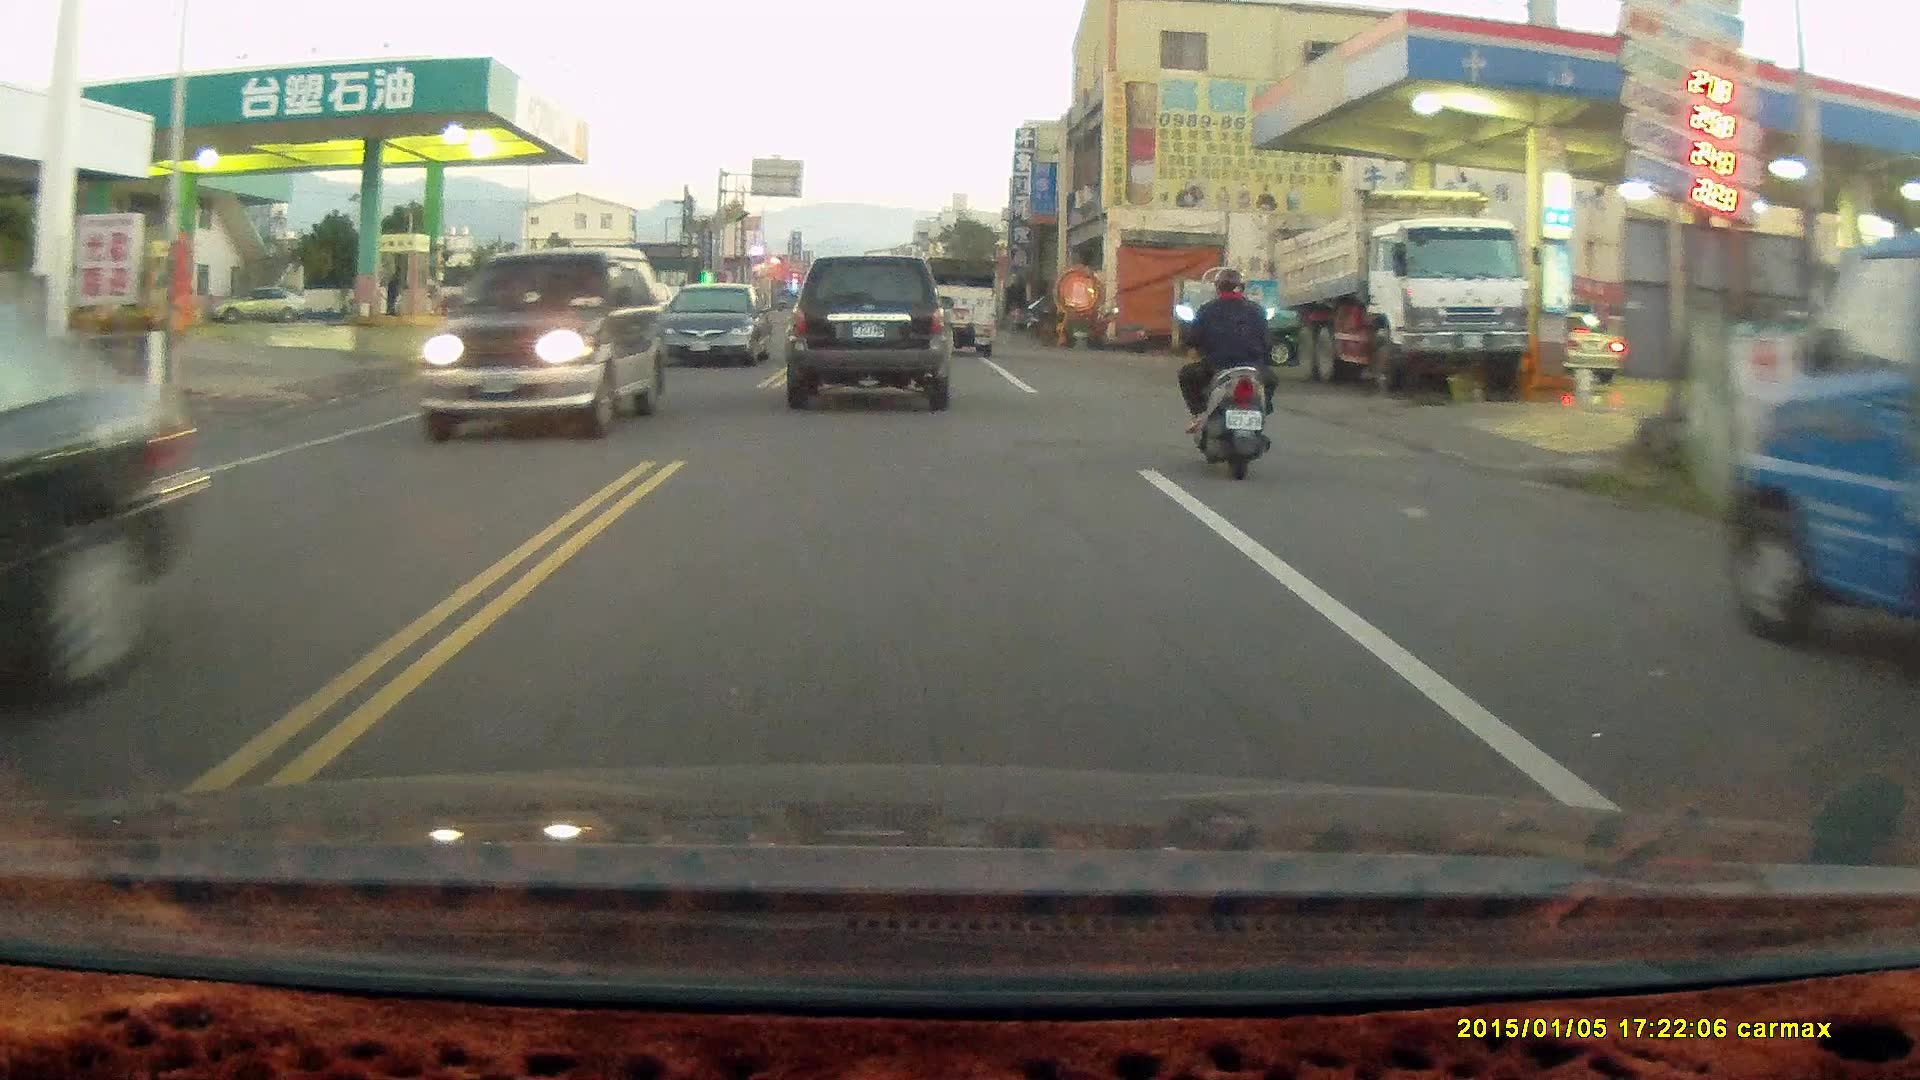rider: (1173, 265, 1280, 481)
vehicle: (1, 277, 217, 738), (1717, 224, 1920, 672), (1268, 188, 1533, 400), (417, 243, 663, 441), (791, 256, 954, 412), (662, 283, 776, 369), (905, 254, 998, 354)
